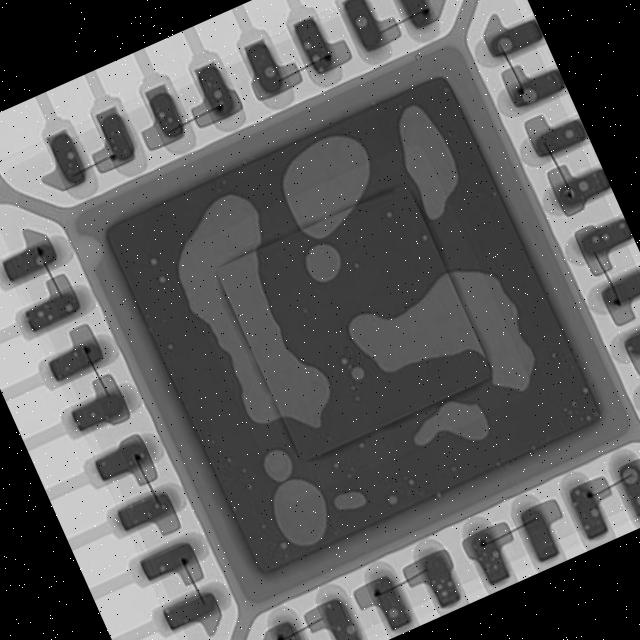chip: (60, 31, 640, 617)
void: (178, 195, 329, 423), (349, 272, 534, 390), (283, 136, 370, 237), (399, 106, 458, 219), (274, 479, 327, 546), (414, 401, 488, 446), (305, 244, 341, 283), (263, 450, 292, 482), (334, 491, 366, 510), (620, 467, 640, 487), (497, 38, 512, 54), (523, 88, 538, 103), (351, 366, 364, 380)
